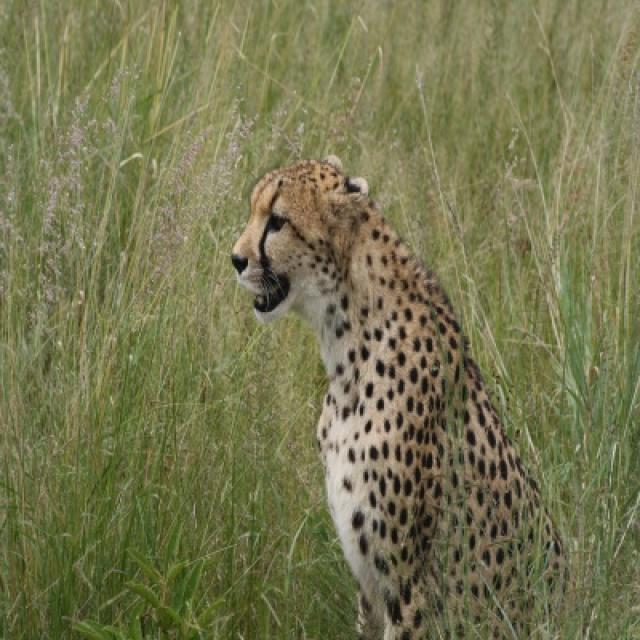Cheetah: (221, 155, 575, 632)
